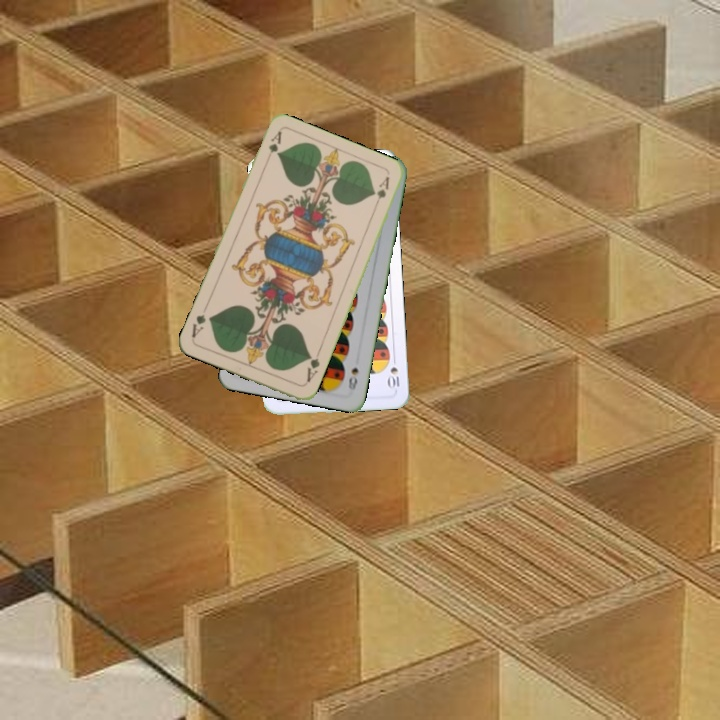GA: (301, 347, 322, 386), (264, 127, 284, 156)
S10: (384, 352, 402, 391)
S8: (344, 364, 361, 393)
